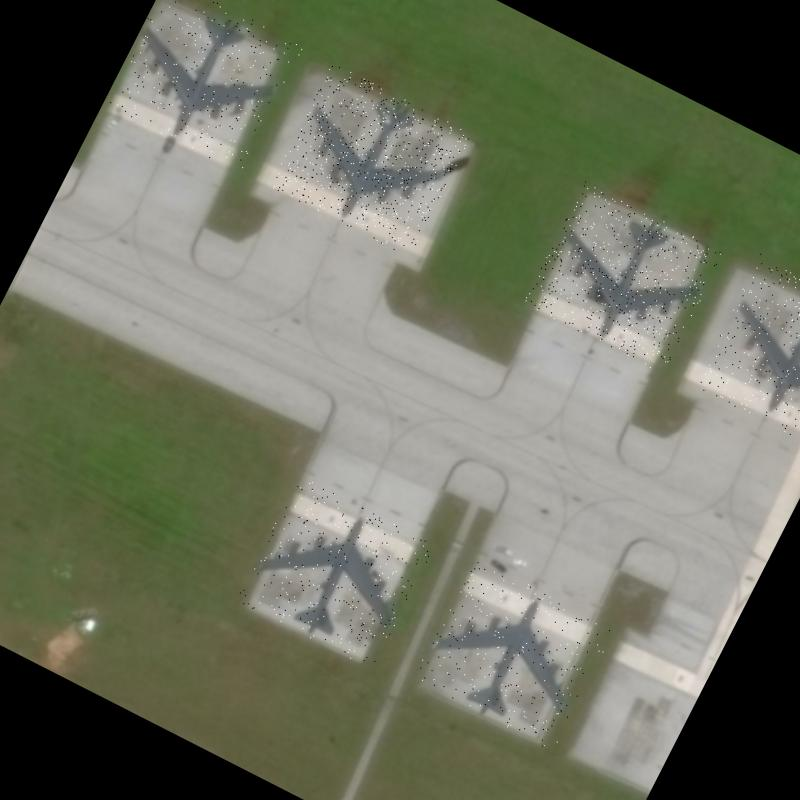A8: (412, 556, 614, 752), (269, 63, 472, 258), (522, 181, 724, 374), (235, 476, 435, 669), (103, 0, 304, 173), (692, 253, 800, 451)
